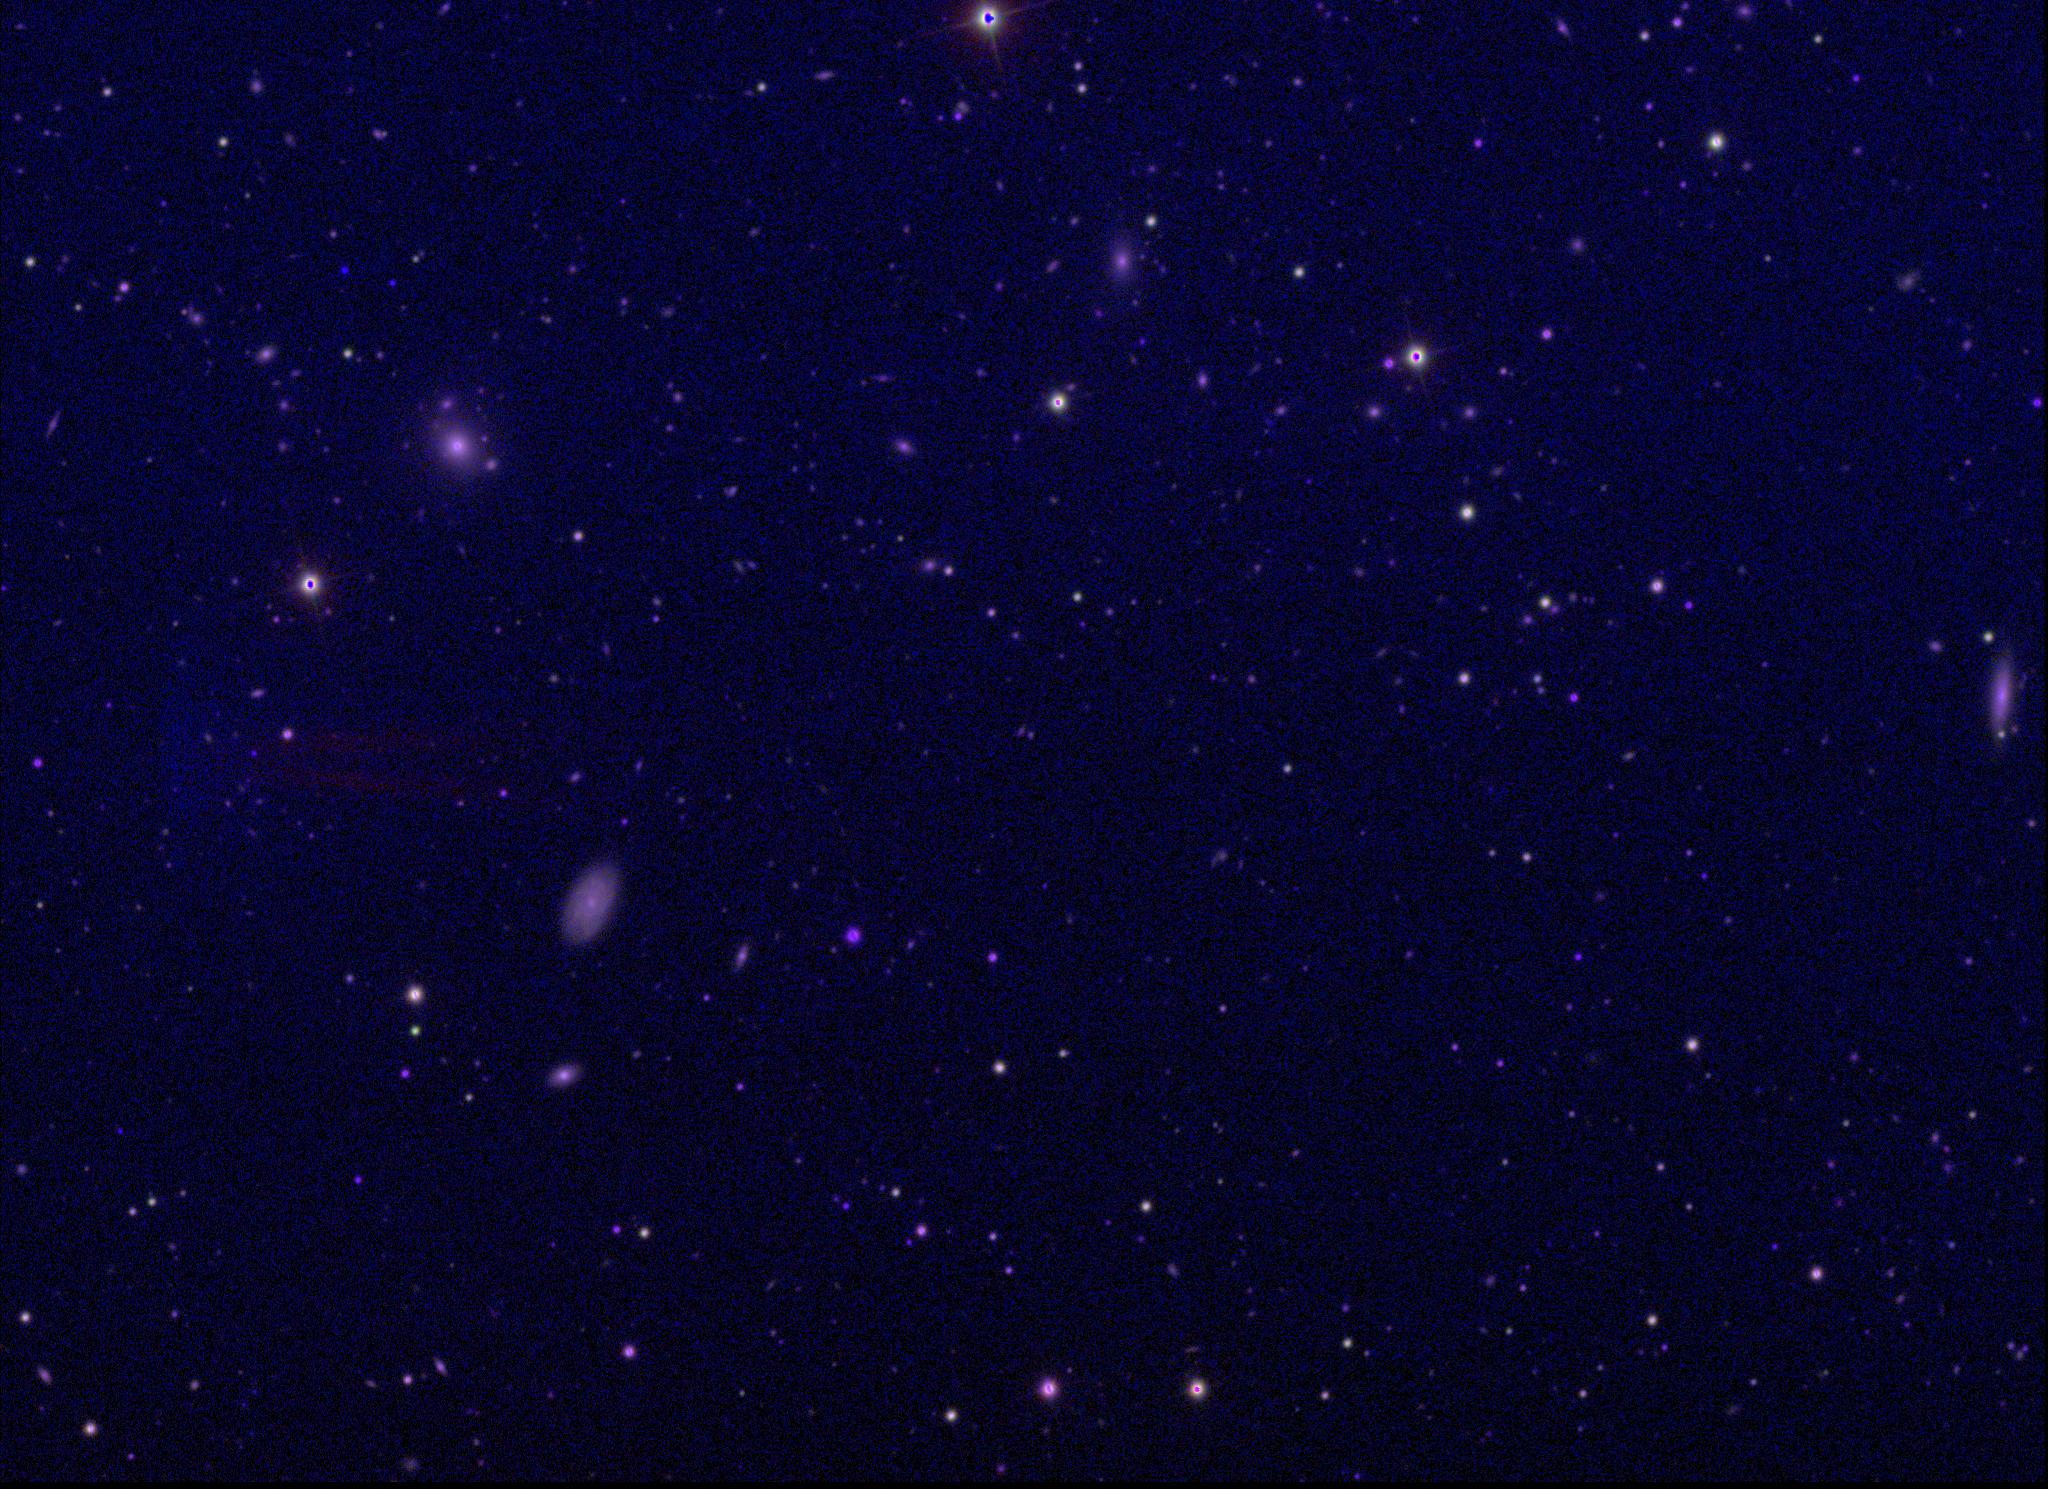L: (339, 262, 351, 277)
